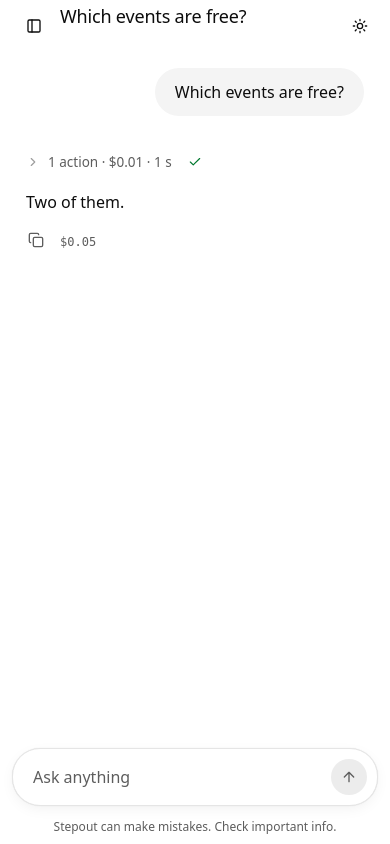
Test: App › the chat-list drawer under 900 px › the menu button opens it like a modal: the page behind is inert and focus moves into the list
The image size is (390, 844).
Expected: the text "Two of them." is shown, [26,191,124,213]
Click the button named "Chats". click: (34, 26)
box: [16,8,52,44]
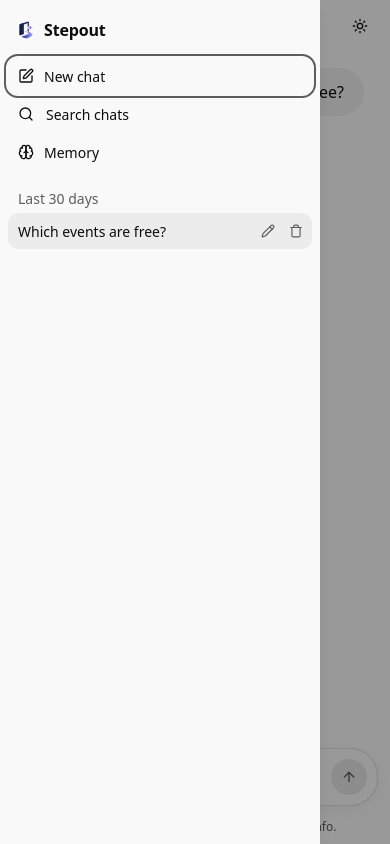
Expected: the button named "Chats" is expanded, [16,8,52,44]
